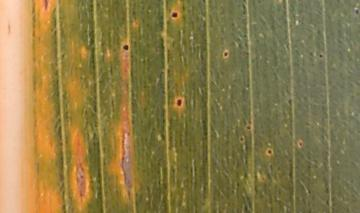tarspot: (175, 98, 183, 106), (122, 44, 129, 51), (222, 51, 229, 58), (245, 124, 252, 131), (353, 8, 360, 15), (171, 12, 178, 18), (239, 137, 245, 143), (318, 53, 324, 59), (267, 149, 272, 155), (298, 141, 303, 147)
